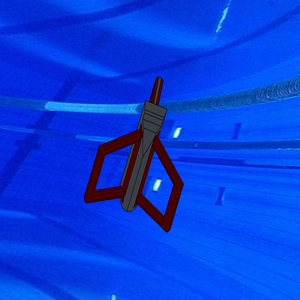submarine: (82, 75, 191, 236)
